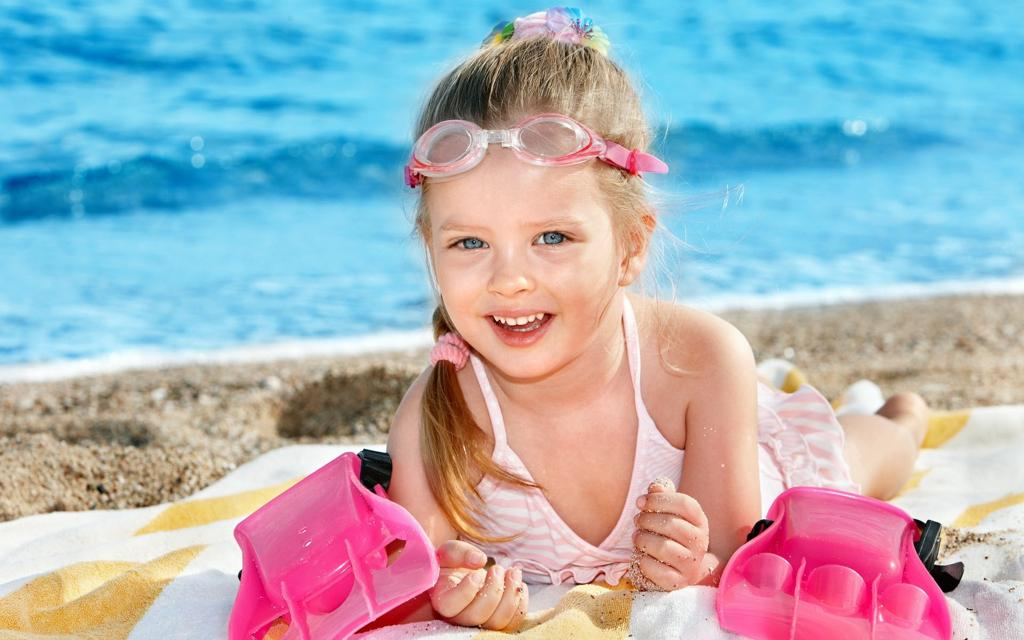face: (428, 160, 620, 378)
